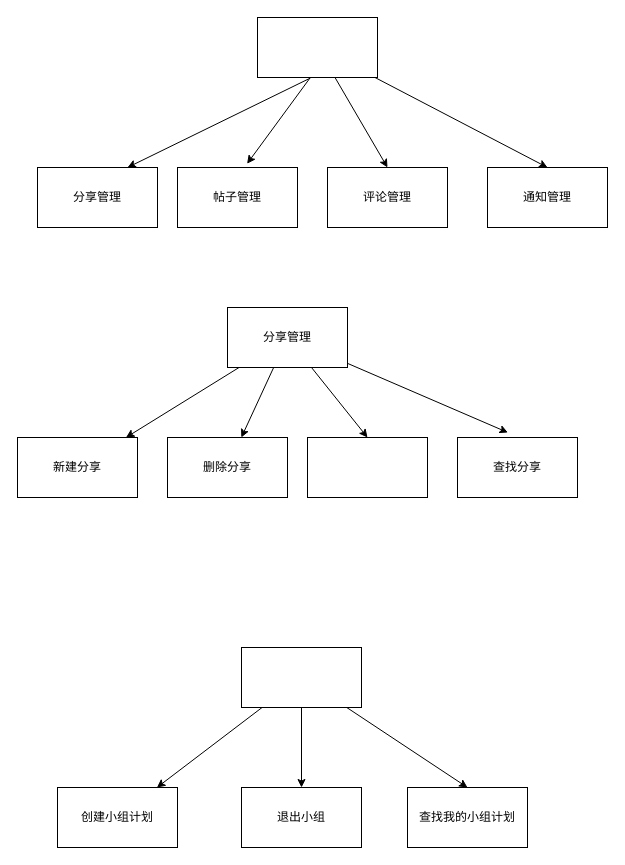
Image size: 625x865. Some labels were removed from this diagram. The shapes that lost their labels are listed below. From the top down, each one's centre as x and y in pixels, then its label:
point (317, 47): 我的空间管理
point (367, 467): 修改分享
point (301, 677): 我的小组计划管理
